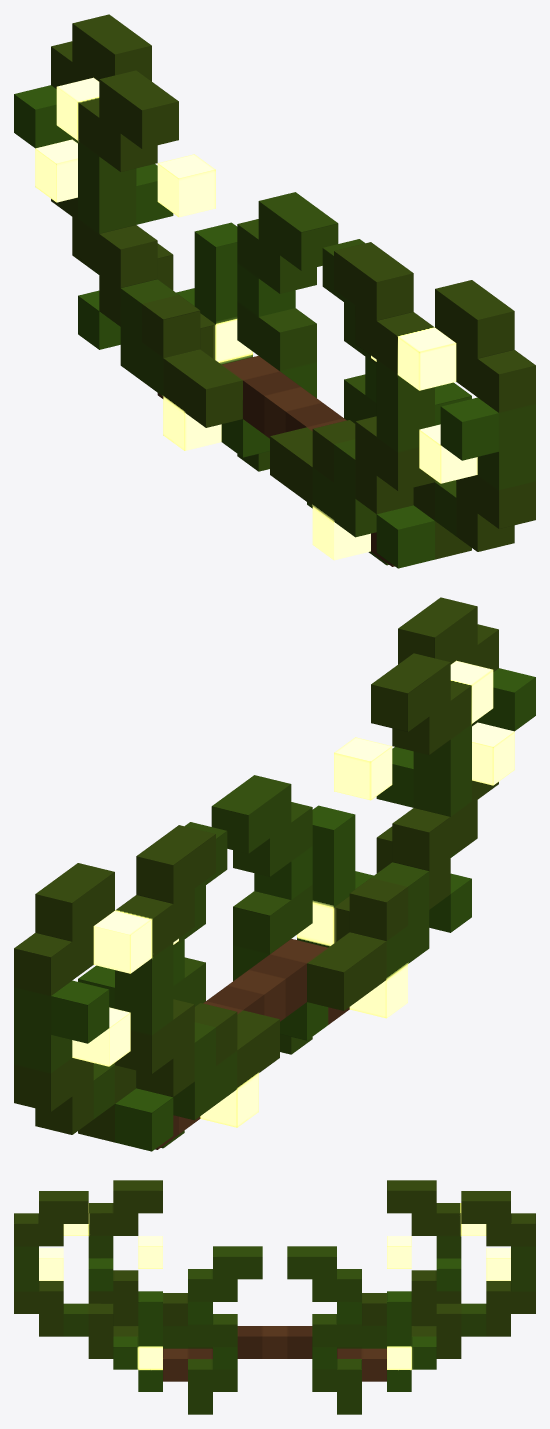
File: natural_vine.fbx
The picture shows the model from 3 angles, top to bottom: view 1: azimuth 30°, elevation 25°; view 2: azimuth 150°, elevation 25°; view 3: azimuth 270°, elevation 25°; orthographic projection. The views are drawn at different scales.
Parts seen in each view (by area): view 1: natural vine; view 2: natural vine; view 3: natural vine.
Part boxes in pixels (x1=…): natural vine: x1=14, y1=14, x2=535, y2=568; natural vine: x1=14, y1=597, x2=535, y2=1151; natural vine: x1=14, y1=1180, x2=535, y2=1414.
Bounding box in the file's own units: 0.3 × 0.9 × 2.1.
Materials: 1 (1 with a texture image).
